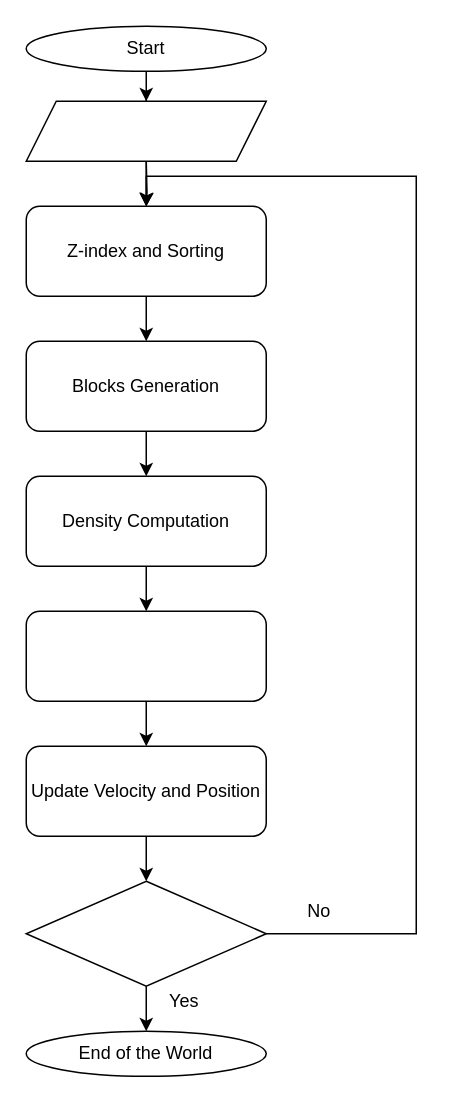
The diagram is 455 pixels wide and 1103 high, and some of its shapes have lost their labels. The shapes that lost their labels are listed below. From the top down, each one's centre as x and y in pixels, then its label:
point 145,130: Initialize Particles
point 145,655: Force Computation
point 145,933: End of the world? Or terminated?
